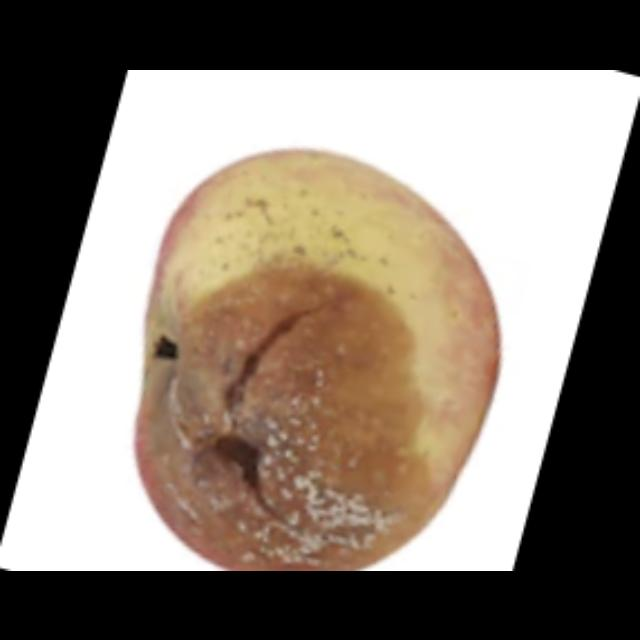Apel Tidak Segar: (127, 140, 509, 570)
